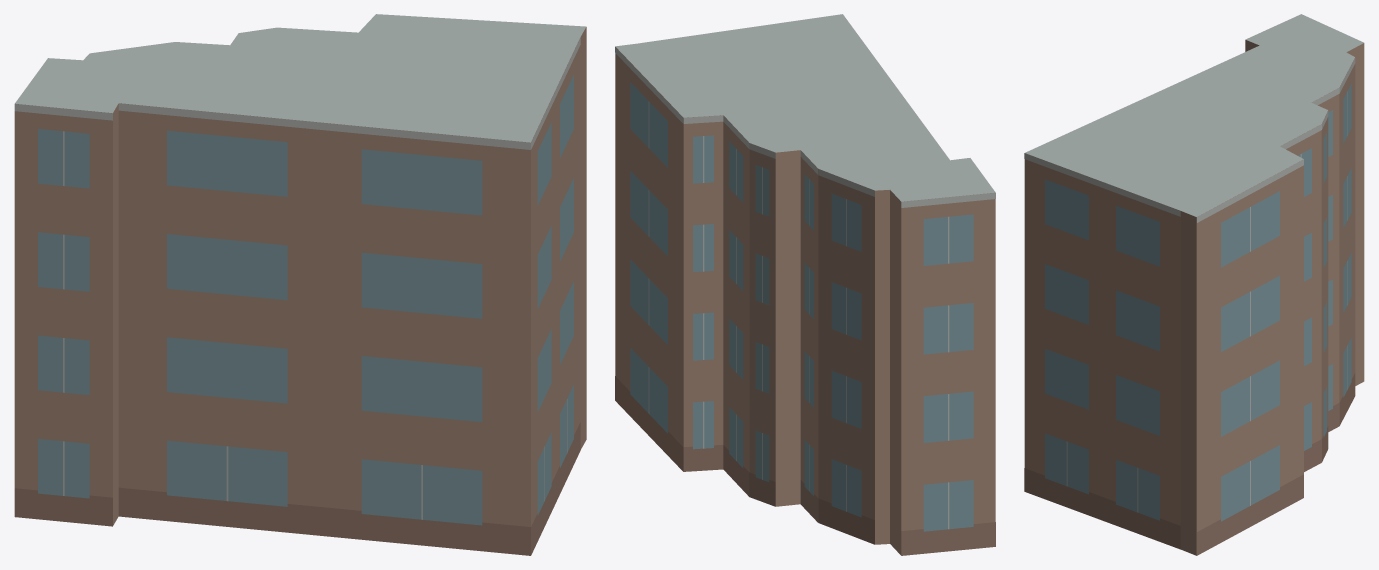
The model's file is survey-upis-32778434.glb.
3 renders of one model, left to right at view 1: azimuth 30°, elevation 25°; view 2: azimuth 150°, elevation 25°; view 3: azimuth 270°, elevation 25°, orthographic. The views are drawn at different scales.
Visible parts, largest first — view 1: survey-upis-32778434.tmp; view 2: survey-upis-32778434.tmp; view 3: survey-upis-32778434.tmp.
Boxes of the visible parts, x1,y1,x2,y2 form: survey-upis-32778434.tmp: (14,14,586,555); survey-upis-32778434.tmp: (615,14,995,555); survey-upis-32778434.tmp: (1024,14,1364,555).
Bounding box in the file's own units: 17.44 × 13.55 × 12.33.
